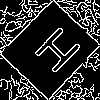H: (25, 25, 83, 83)
